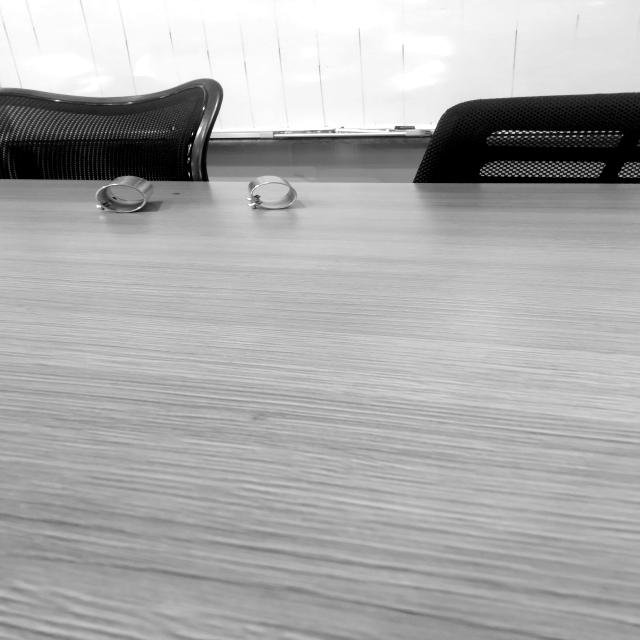Co_Lon: (95, 175, 154, 214)
Co_Nho: (248, 176, 296, 210)
